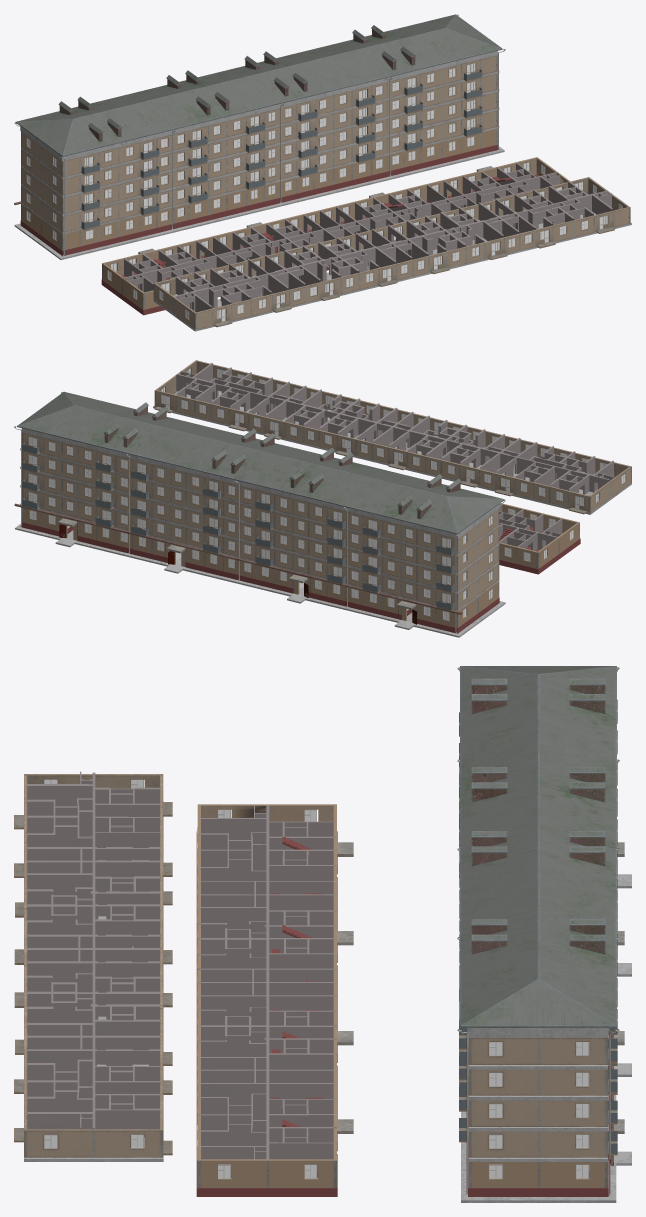
The model's file is panel_house_2.glb.
3 views of the same model, one above another, from view 1: azimuth 30°, elevation 25°; view 2: azimuth 150°, elevation 25°; view 3: azimuth 270°, elevation 25° (orthographic). The views are drawn at different scales.
Parts seen in each view (by area): view 1: Object_11, Object_21, Object_2, Object_6, Object_23, Object_4, Object_5, Object_3; view 2: Object_11, Object_2, Object_21, Object_6, Object_4, Object_23, Object_5, Object_3; view 3: Object_21, Object_2, Object_11, Object_23, Object_4, Object_3, Object_6, Object_5.
Part boxes in pixels (bbox=[...]): Object_11: bbox=[21, 55, 630, 329]; Object_21: bbox=[124, 163, 612, 312]; Object_2: bbox=[15, 14, 502, 156]; Object_6: bbox=[27, 63, 622, 321]; Object_23: bbox=[21, 128, 570, 309]; Object_4: bbox=[14, 51, 631, 331]; Object_5: bbox=[14, 14, 505, 255]; Object_3: bbox=[20, 144, 538, 315]; Object_11: bbox=[22, 360, 631, 611]; Object_2: bbox=[17, 391, 504, 534]; Object_21: bbox=[176, 363, 614, 550]; Object_6: bbox=[28, 368, 625, 620]; Object_4: bbox=[15, 391, 631, 637]; Object_23: bbox=[22, 503, 579, 628]; Object_5: bbox=[14, 392, 505, 633]; Object_3: bbox=[21, 522, 580, 633]; Object_21: bbox=[27, 771, 333, 1174]; Object_2: bbox=[460, 666, 616, 1027]; Object_11: bbox=[14, 709, 617, 1157]; Object_23: bbox=[197, 804, 624, 1187]; Object_4: bbox=[24, 801, 631, 1202]; Object_3: bbox=[196, 831, 608, 1196]; Object_6: bbox=[44, 779, 588, 1178]; Object_5: bbox=[457, 667, 619, 1196].
Bounding box in the file's own units: 77.71 × 19.48 × 55.55.
Materials: 9 (6 with a texture image).
